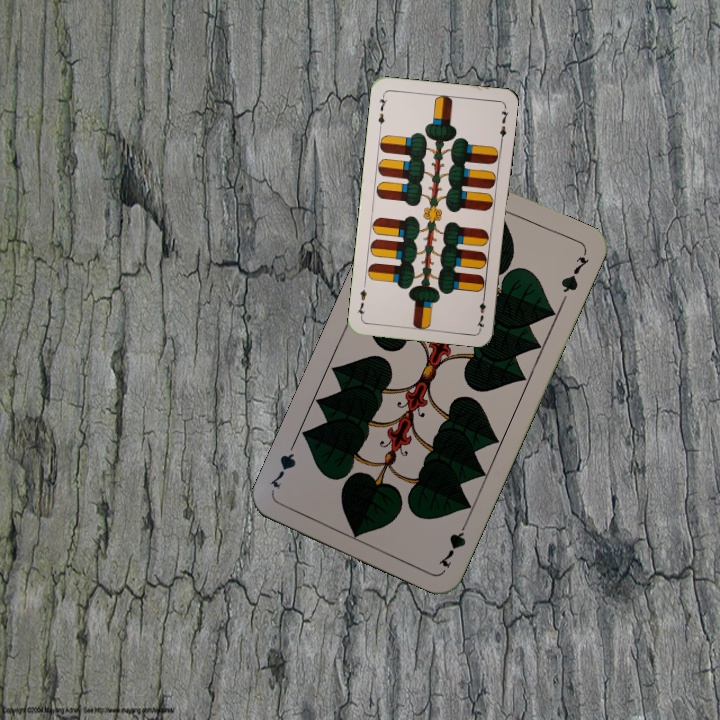E7: (374, 91, 390, 131), (473, 290, 488, 331)
G7: (434, 515, 471, 571)
